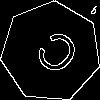C: (26, 27, 83, 85)
